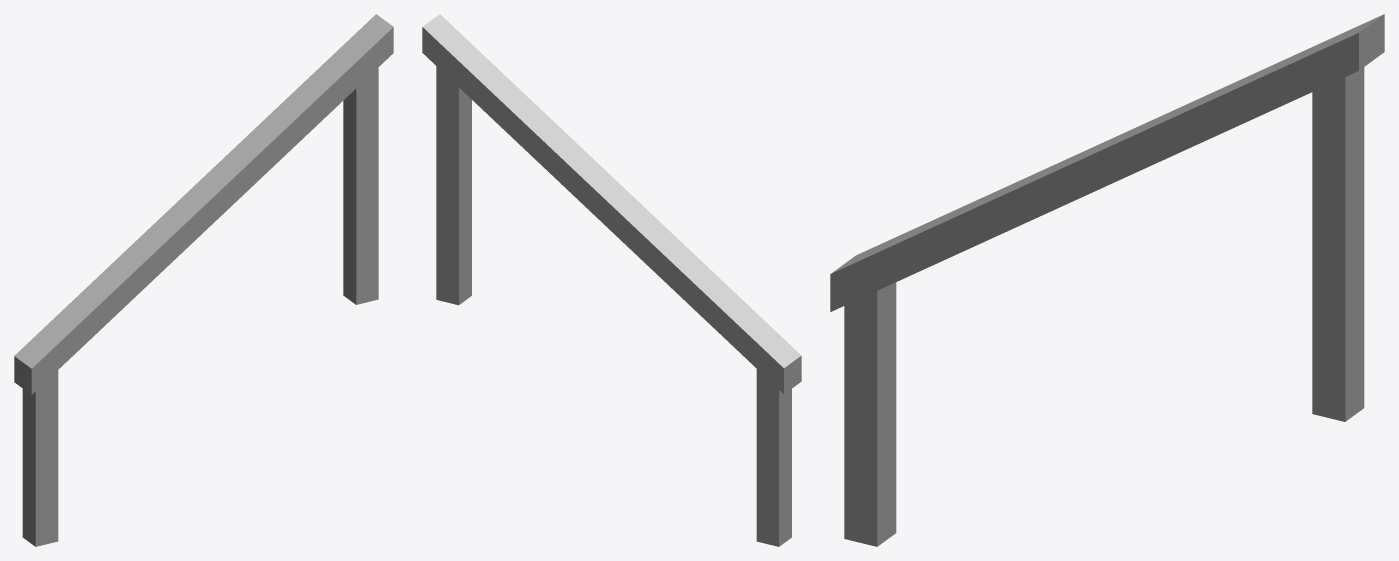
Rendered from rail_002.fbx.
3 views of the same model, side by side, from view 1: azimuth 30°, elevation 25°; view 2: azimuth 150°, elevation 25°; view 3: azimuth 330°, elevation 25° (orthographic). The views are drawn at different scales.
Parts seen in each view (by area): view 1: rail_002; view 2: rail_002; view 3: rail_002.
Part boxes in pixels (box(x1,y1,x2,y2)): rail_002: box(14, 14, 393, 546); rail_002: box(422, 14, 801, 546); rail_002: box(830, 14, 1384, 546).
Size of the model in its own units: 136 by 156 by 11.39.
